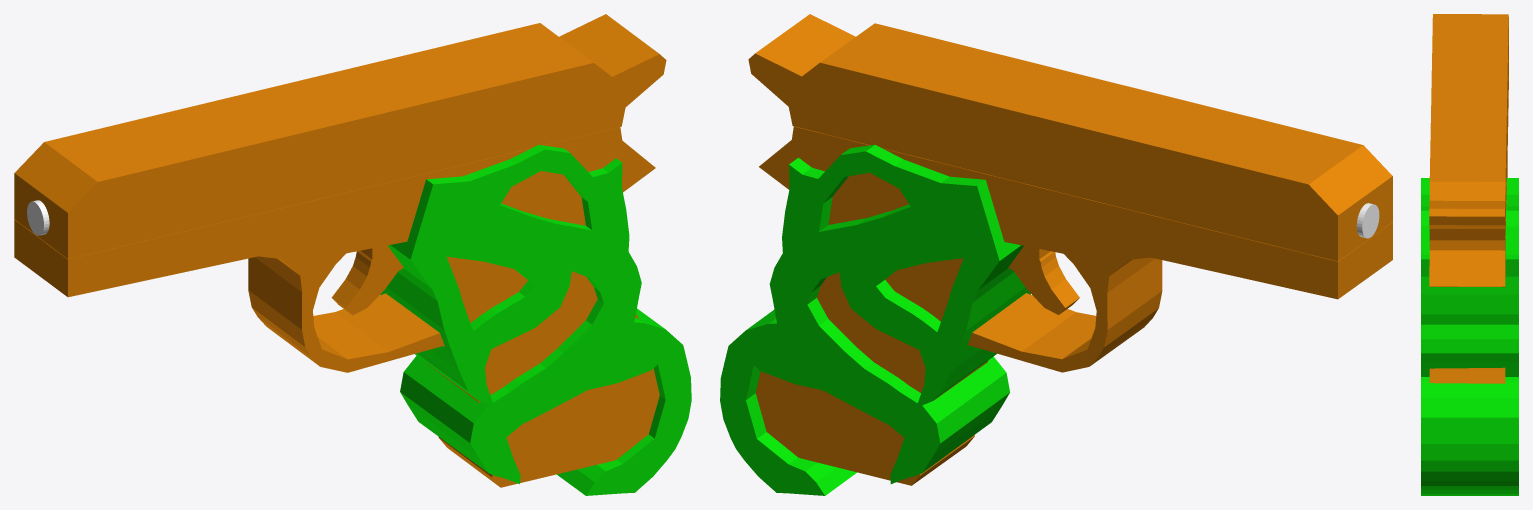
Rendered from pistolaPlanta.fbx.
3 views of the same model, side by side, from view 1: azimuth 30°, elevation 25°; view 2: azimuth 150°, elevation 25°; view 3: azimuth 270°, elevation 25° (orthographic). The views are drawn at different scales.
Visible parts, largest first — view 1: Cube.001, Cube, Cube.003, Cube.002; view 2: Cube.001, Cube.003, Cube, Cube.002; view 3: Cube.003, Cube.001, Cube.
Boxes of the visible parts, <box> form: Cube.001: <box>14,14,666,259</box>; Cube: <box>14,127,659,487</box>; Cube.003: <box>380,145,691,495</box>; Cube.002: <box>331,245,403,315</box>; Cube.001: <box>748,14,1392,261</box>; Cube.003: <box>720,144,1030,495</box>; Cube: <box>755,126,1392,485</box>; Cube.002: <box>1008,246,1079,314</box>; Cube.003: <box>1421,178,1518,495</box>; Cube.001: <box>1429,14,1508,240</box>; Cube: <box>1429,60,1508,383</box>.
Size of the model in its own units: 753 by 503 by 148.
